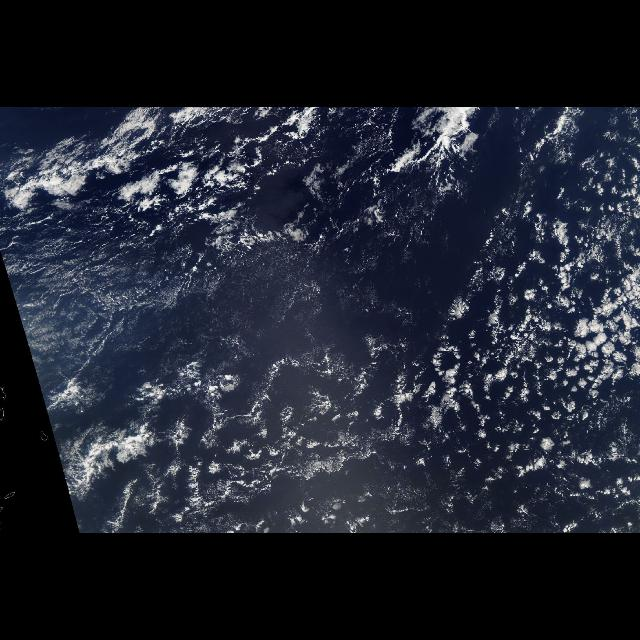Fish: (4, 110, 538, 252)
Flower: (149, 276, 636, 530)
Sugar: (9, 222, 252, 412)
